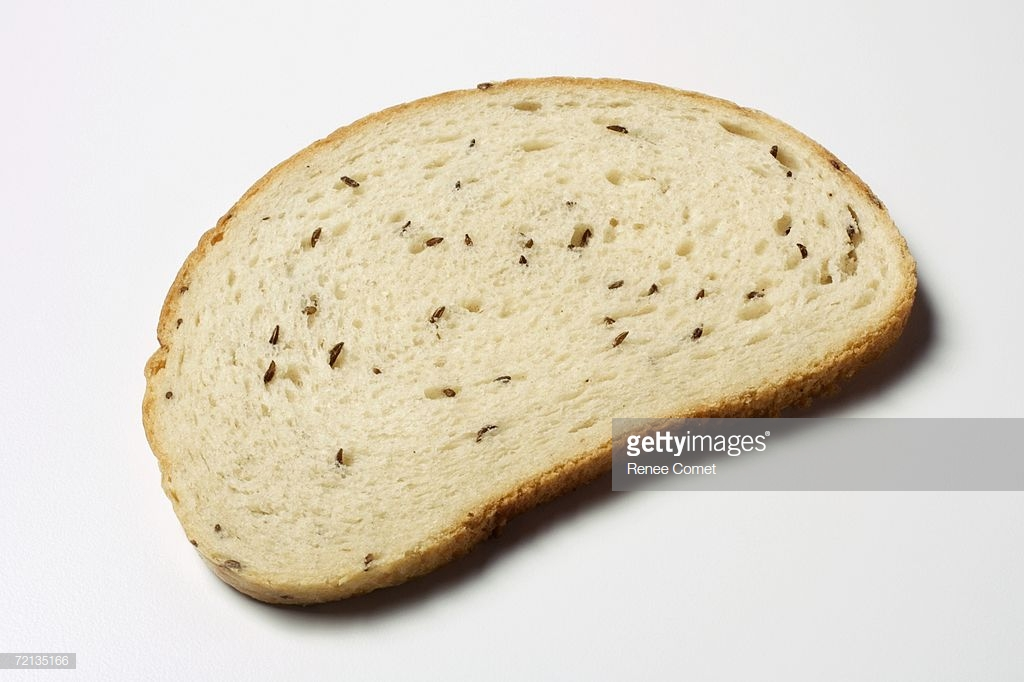slice of bread: (145, 171, 952, 369)
